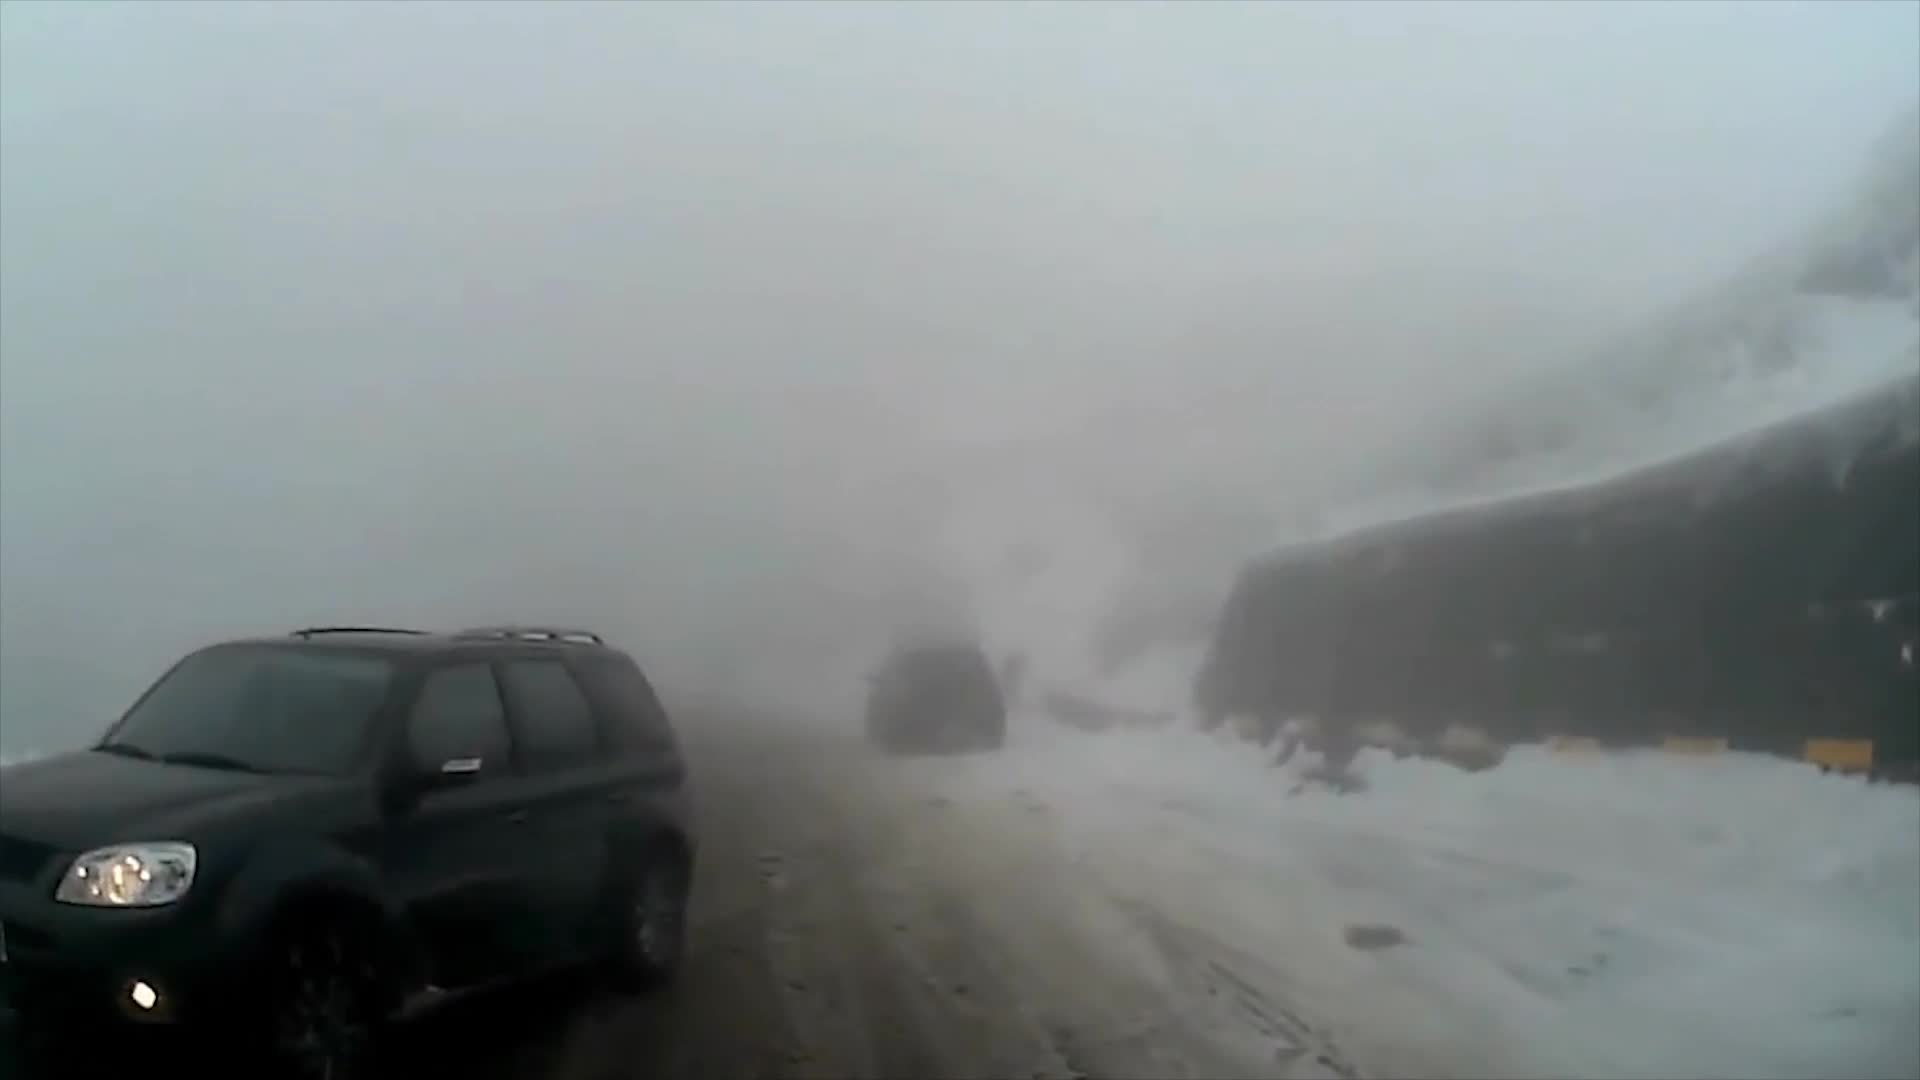vehicle: (0, 621, 694, 1073), (858, 633, 1004, 756)
